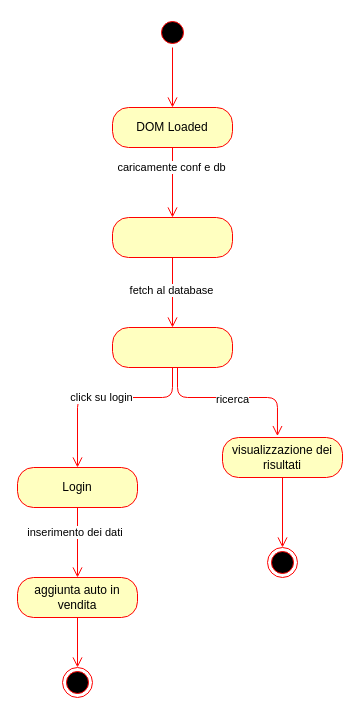
The diagram is 360 pixels wide and 715 high, and some of its shapes have lost their labels. The shapes that lost their labels are listed below. From the top down, each one's centre as x and y in pixels, then its label:
[172,237]: setup caricato
[172,347]: Home page caricata (render)
